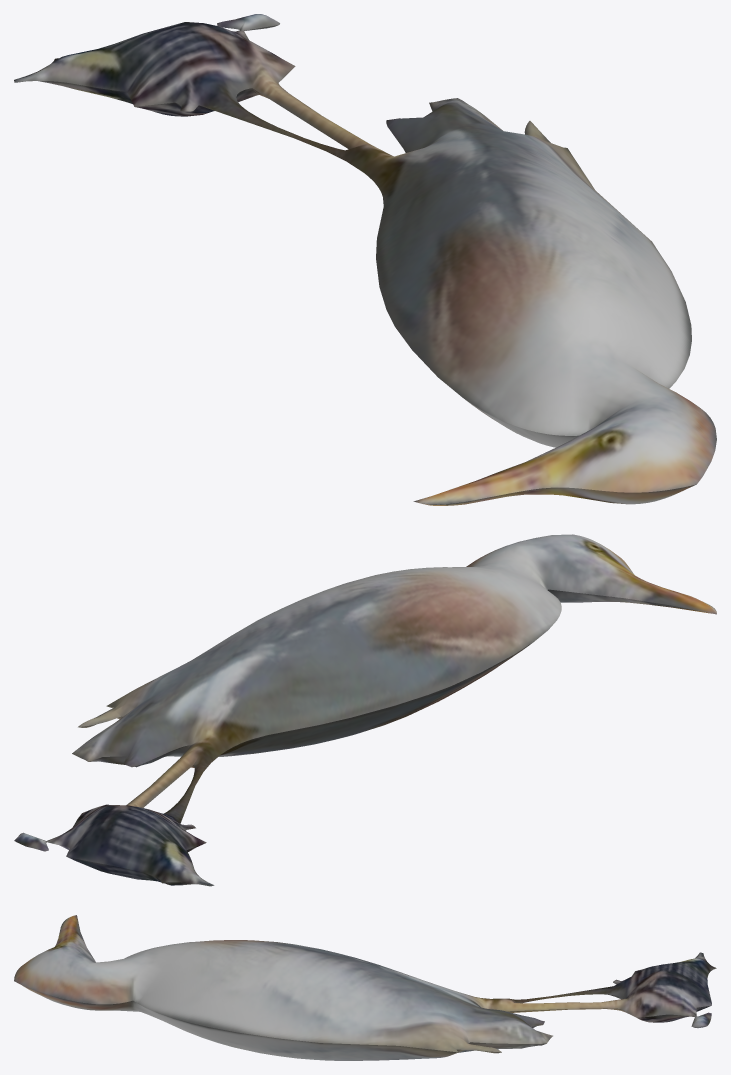
File: DSC_4231-Garcita-Bueyera-Cattle-Egret--Custom--removebg-preview.gltf
3 renders of one model, top to bottom at view 1: azimuth 30°, elevation 25°; view 2: azimuth 150°, elevation 25°; view 3: azimuth 270°, elevation 25°, orthographic. The views are drawn at different scales.
Parts seen in each view (by area): view 1: node1; view 2: node1; view 3: node1.
Part boxes in pixels (<box>): node1: <box>14,14,716,505</box>; node1: <box>14,534,716,886</box>; node1: <box>14,915,716,1060</box>.
Size of the model in its own units: 1.2 by 0.418 by 2.59.
1 material, 1 textured.
